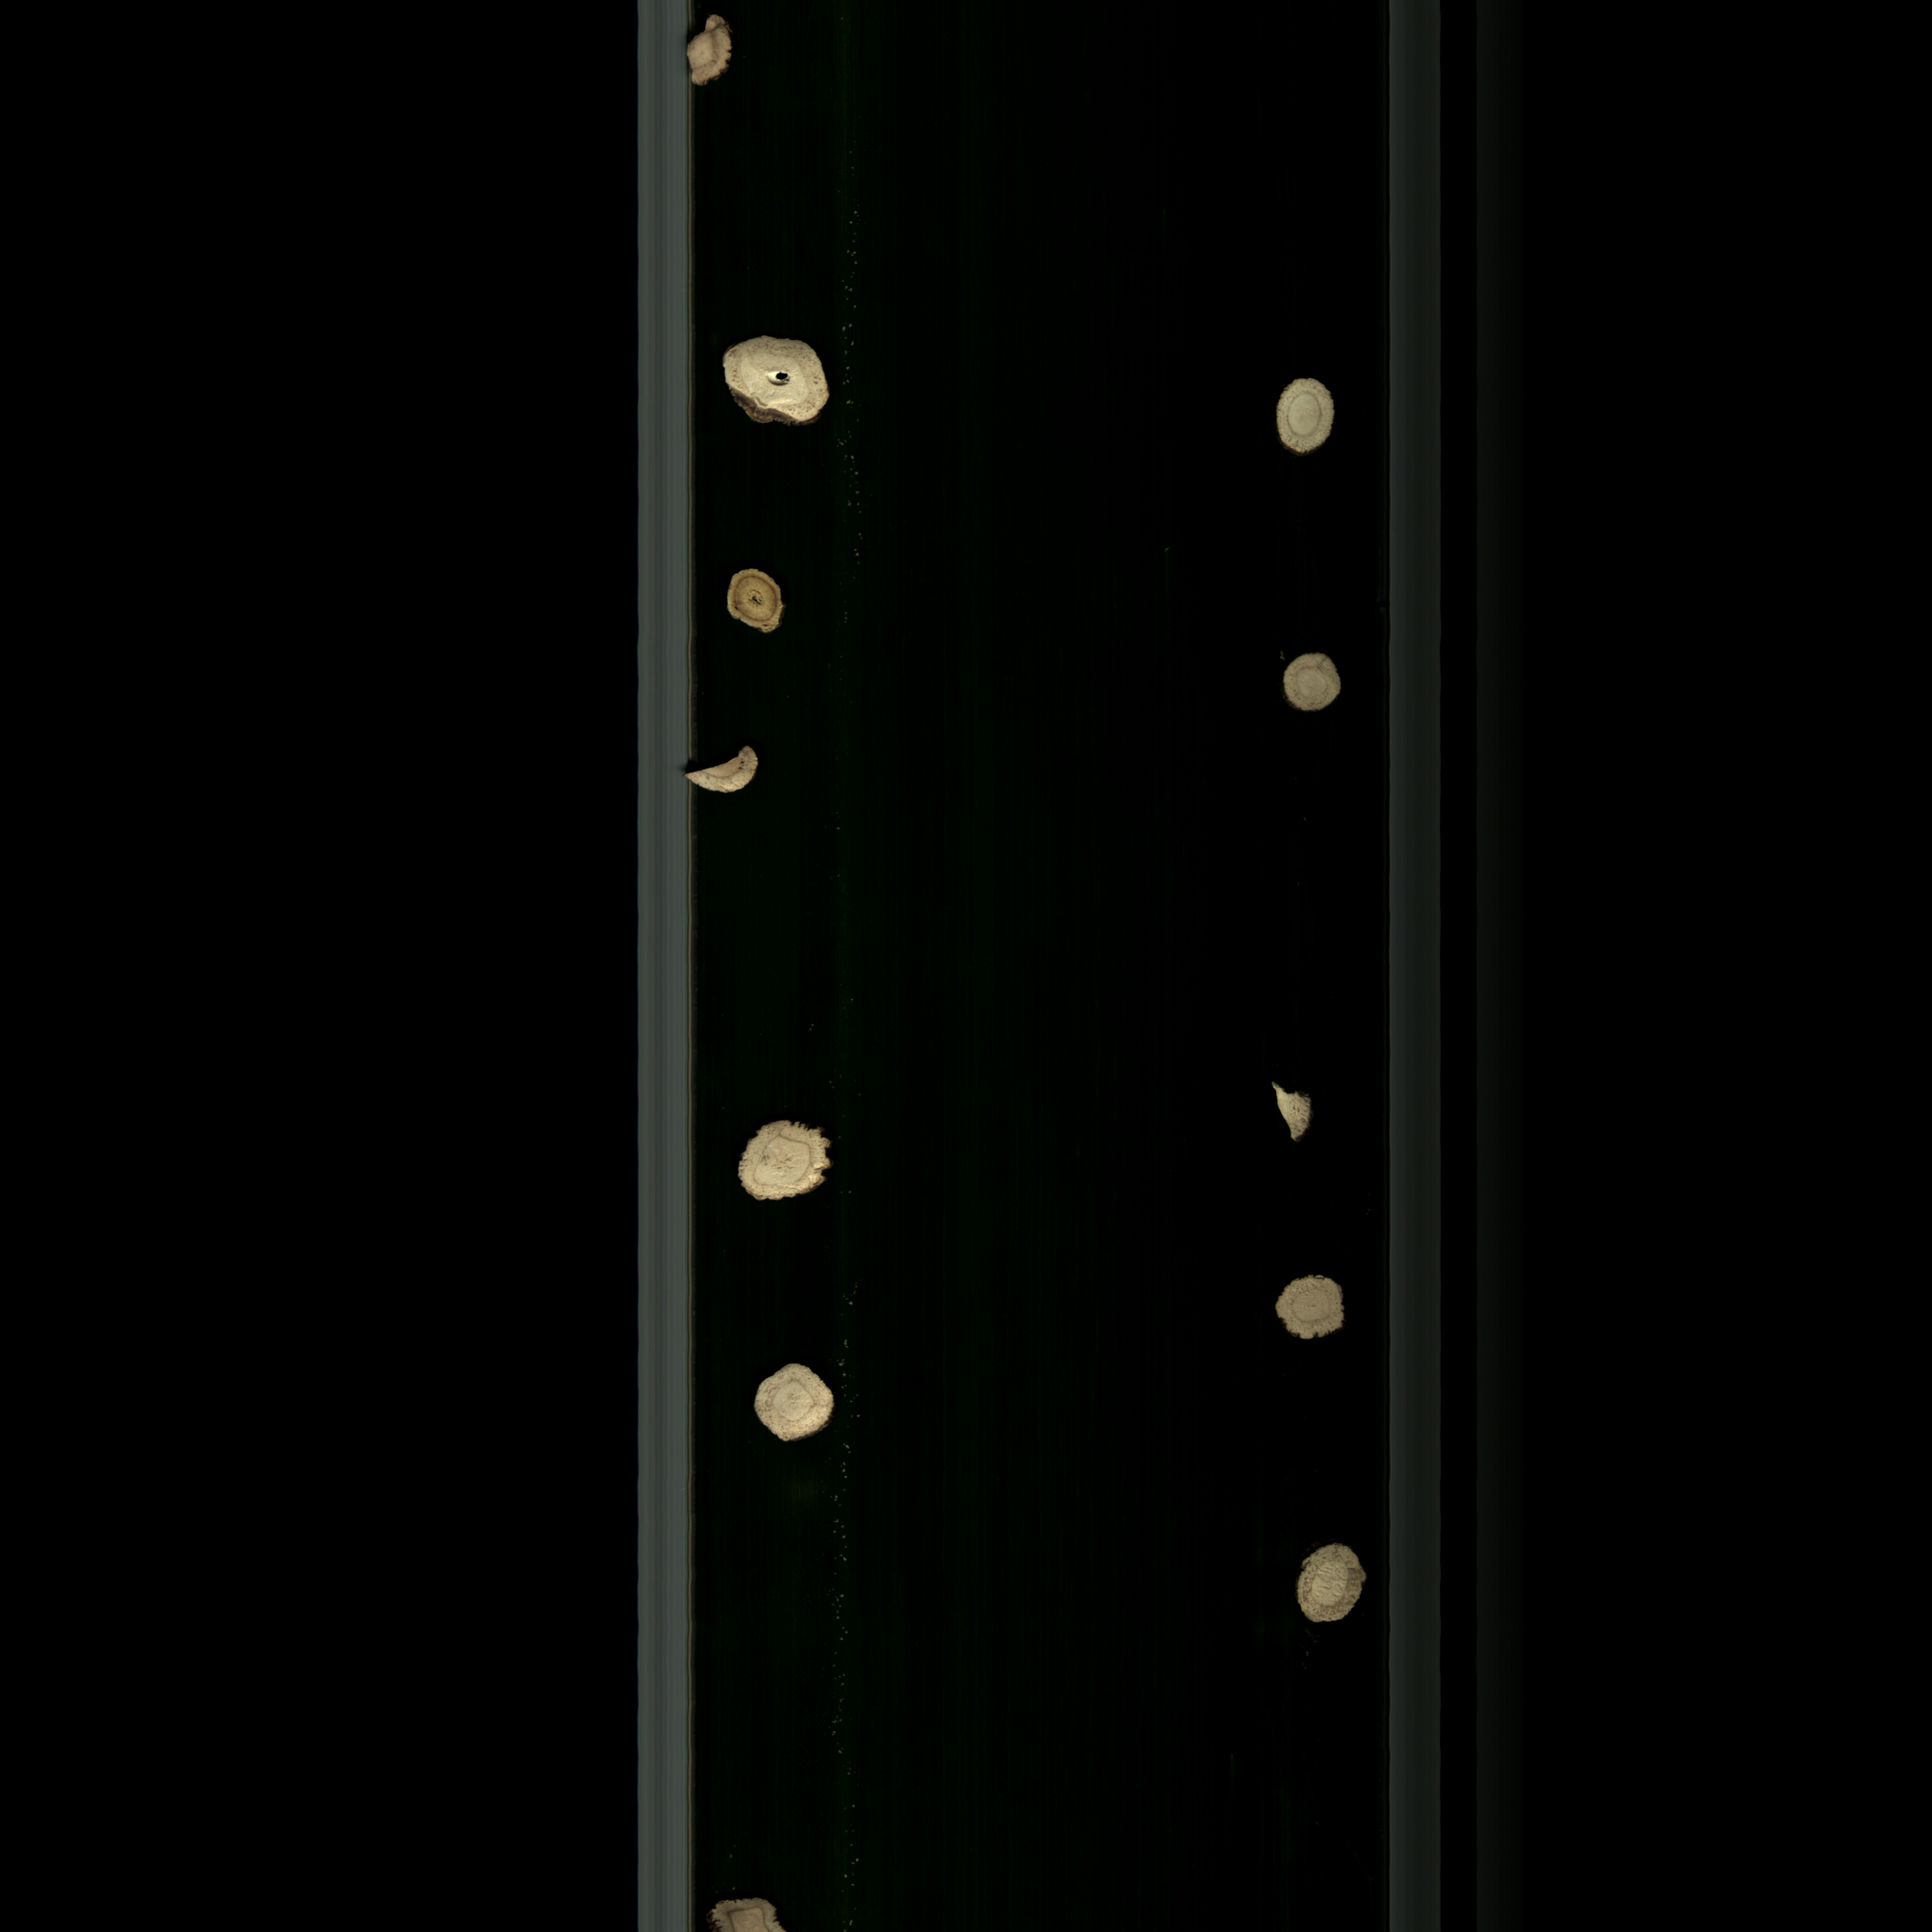distortion: (729, 1104, 844, 1219)
dreg: (1253, 1070, 1336, 1157), (679, 741, 768, 794)
hole: (711, 333, 840, 444)
moldy: (1267, 1270, 1355, 1346), (722, 564, 800, 649), (681, 16, 743, 81), (706, 1888, 786, 1932)
